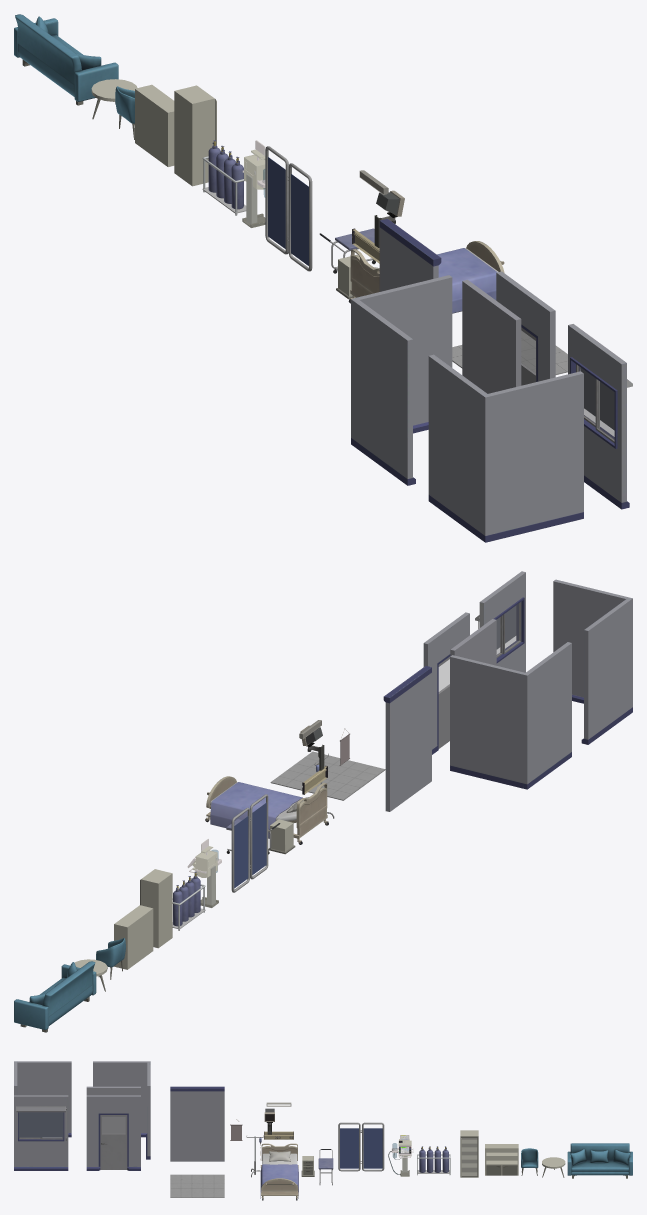
File: hospital_room.glb
3 views of the same model, one above another, from view 1: azimuth 30°, elevation 25°; view 2: azimuth 150°, elevation 25°; view 3: azimuth 270°, elevation 25° (orthographic). The views are drawn at different scales.
Visible parts, largest first — view 1: Wall1-material, Wall2-material, WindowWall-material, Wall3-material, Sofa-material, Curtain-material, Bed-material, Cabinet1-material, Wall5-material, DoorWall-material, Cabinet2-material, OxygenTube-material (+3 smaller); view 2: Wall2-material, Wall1-material, Wall5-material, Bed-material, WindowWall-material, Sofa-material, Curtain-material, Ground-material, DoorWall-material, Cabinet1-material, Cabinet2-material, Wall3-material (+4 smaller); view 3: WindowWall-material, Wall5-material, DoorWall-material, Wall1-material, Curtain-material, Sofa-material, Wall2-material, Bed-material, Door-material, Ground-material, Cabinet2-material, Wall3-material (+10 smaller).
Part boxes in pixels (box(x1,y1,x2,y2)): Wall1-material: box(428, 354, 583, 542); Wall2-material: box(351, 275, 452, 485); WindowWall-material: box(568, 324, 632, 509); Wall3-material: box(462, 279, 521, 393); Sofa-material: box(14, 14, 118, 105); Curtain-material: box(265, 146, 312, 271); Bed-material: box(348, 241, 504, 313); Cabinet1-material: box(174, 85, 214, 186); Wall5-material: box(379, 218, 441, 291); DoorWall-material: box(496, 271, 555, 381); Cabinet2-material: box(135, 84, 174, 166); OxygenTube-material: box(202, 140, 246, 215); Wall2-material: box(450, 642, 571, 789); Wall1-material: box(553, 579, 632, 744); Wall5-material: box(383, 666, 431, 811); Bed-material: box(205, 776, 328, 844); WindowWall-material: box(475, 571, 525, 672); Sofa-material: box(14, 961, 96, 1032); Curtain-material: box(231, 794, 268, 892); Ground-material: box(270, 751, 385, 800); DoorWall-material: box(423, 612, 469, 754); Cabinet1-material: box(141, 869, 172, 948); Cabinet2-material: box(114, 905, 153, 969); Wall3-material: box(450, 619, 496, 665); WindowWall-material: box(14, 1095, 68, 1170); Wall5-material: box(170, 1086, 224, 1161); DoorWall-material: box(86, 1095, 140, 1170); Wall1-material: box(14, 1061, 71, 1137); Curtain-material: box(338, 1122, 384, 1171); Sofa-material: box(567, 1143, 632, 1178); Wall2-material: box(93, 1061, 150, 1159); Bed-material: box(260, 1143, 298, 1200); Door-material: box(100, 1115, 127, 1169); Ground-material: box(170, 1174, 224, 1197); Cabinet2-material: box(485, 1144, 518, 1175); Wall3-material: box(86, 1086, 140, 1133).
Bounding box in the file's own units: 0.9374 × 0.491 × 3.7.
Materials: 30 (26 with a texture image).
